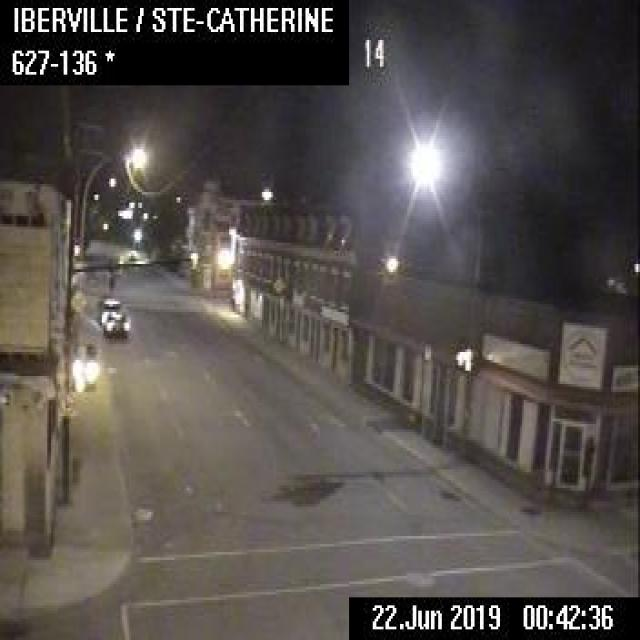vehicle: (102, 307, 129, 333), (98, 295, 120, 319)
